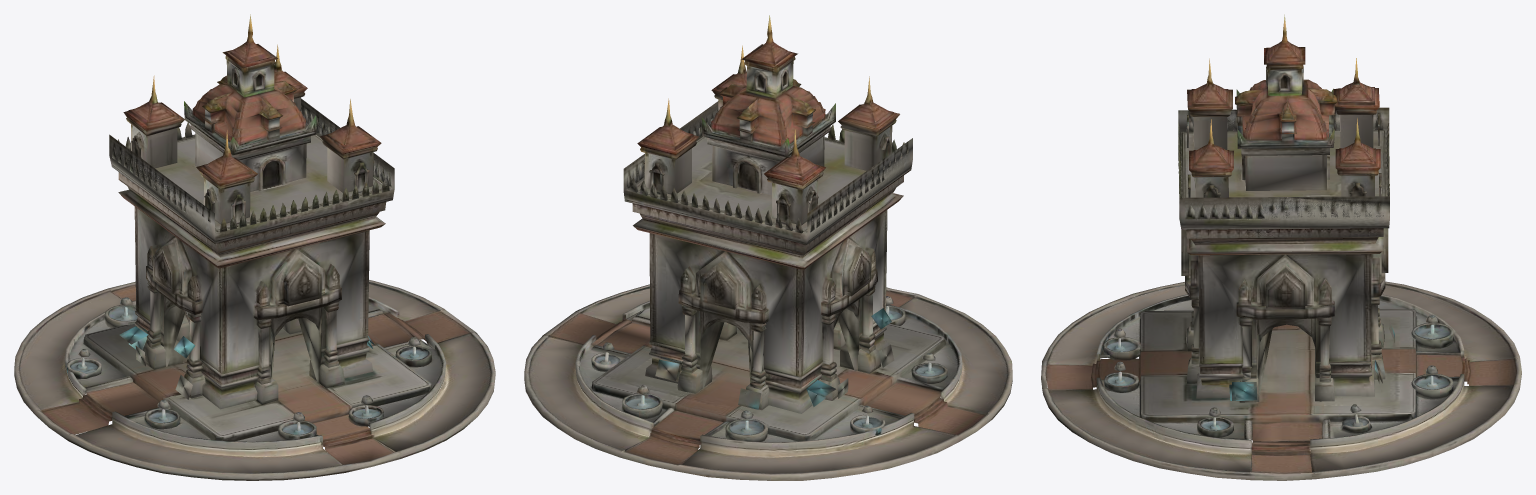
File: lm_patuxai.glb
3 views of the same model, side by side, from view 1: azimuth 30°, elevation 25°; view 2: azimuth 150°, elevation 25°; view 3: azimuth 270°, elevation 25° (orthographic).
Visible parts, largest first — view 1: Body; view 2: Body; view 3: Body.
Boxes of the visible parts, left/top/right/bottom form: Body: left=14, top=14, right=495, bottom=480; Body: left=524, top=15, right=1012, bottom=480; Body: left=1041, top=14, right=1521, bottom=480.
Bounding box in the file's own units: 35.59 × 30 × 35.73.
1 material, 1 textured.
